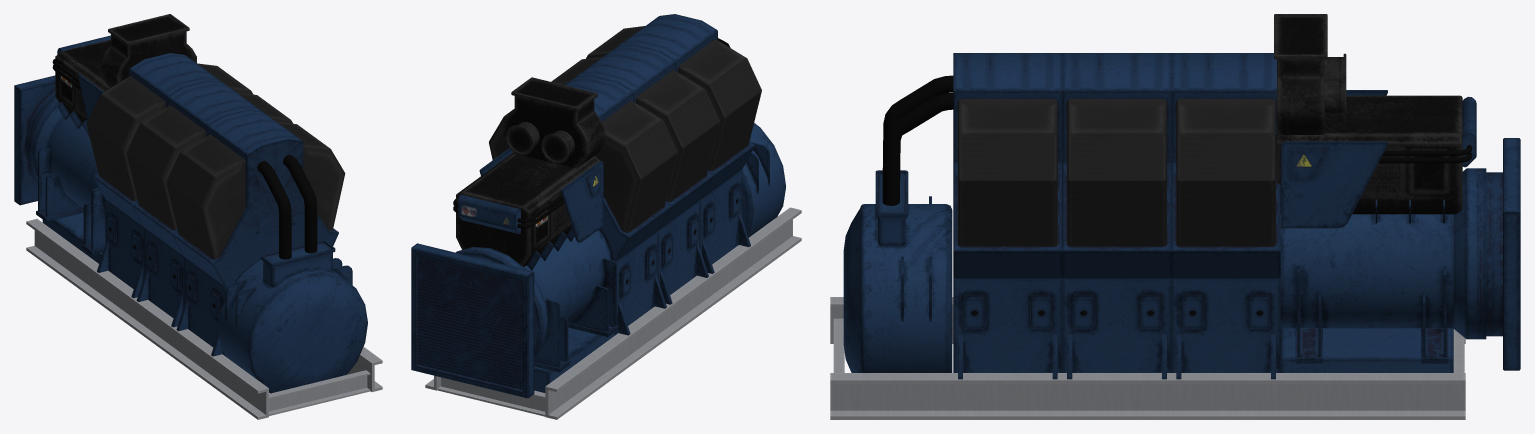
File: Generator4.glb
3 renders of one model, left to right at view 1: azimuth 30°, elevation 25°; view 2: azimuth 150°, elevation 25°; view 3: azimuth 270°, elevation 25°, orthographic. The views are drawn at different scales.
Parts seen in each view (by area): view 1: SM_BigGen; view 2: SM_BigGen; view 3: SM_BigGen.
Boxes of the visible parts, left/top/right/bottom form: SM_BigGen: left=14, top=14, right=382, bottom=419; SM_BigGen: left=411, top=14, right=801, bottom=419; SM_BigGen: left=830, top=14, right=1520, bottom=419.
Size of the model in its own units: 155 by 260 by 467.
1 material, 1 textured.
